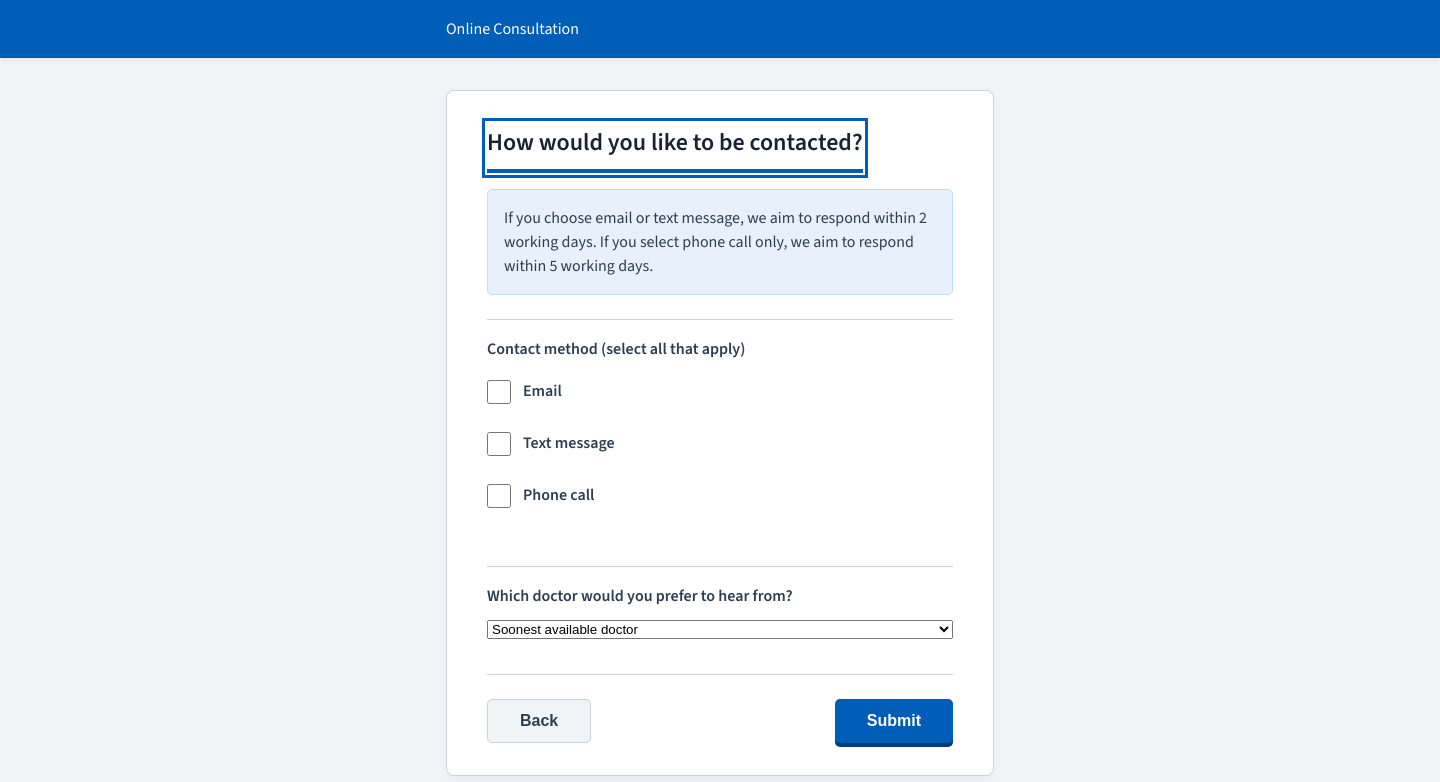
Test: ContactScreen › Submit button is disabled while submitting
The width and height of the screenshot is (1440, 782).
Click the checkbox labelled "Email" at (499,392), box [487, 380, 511, 404]
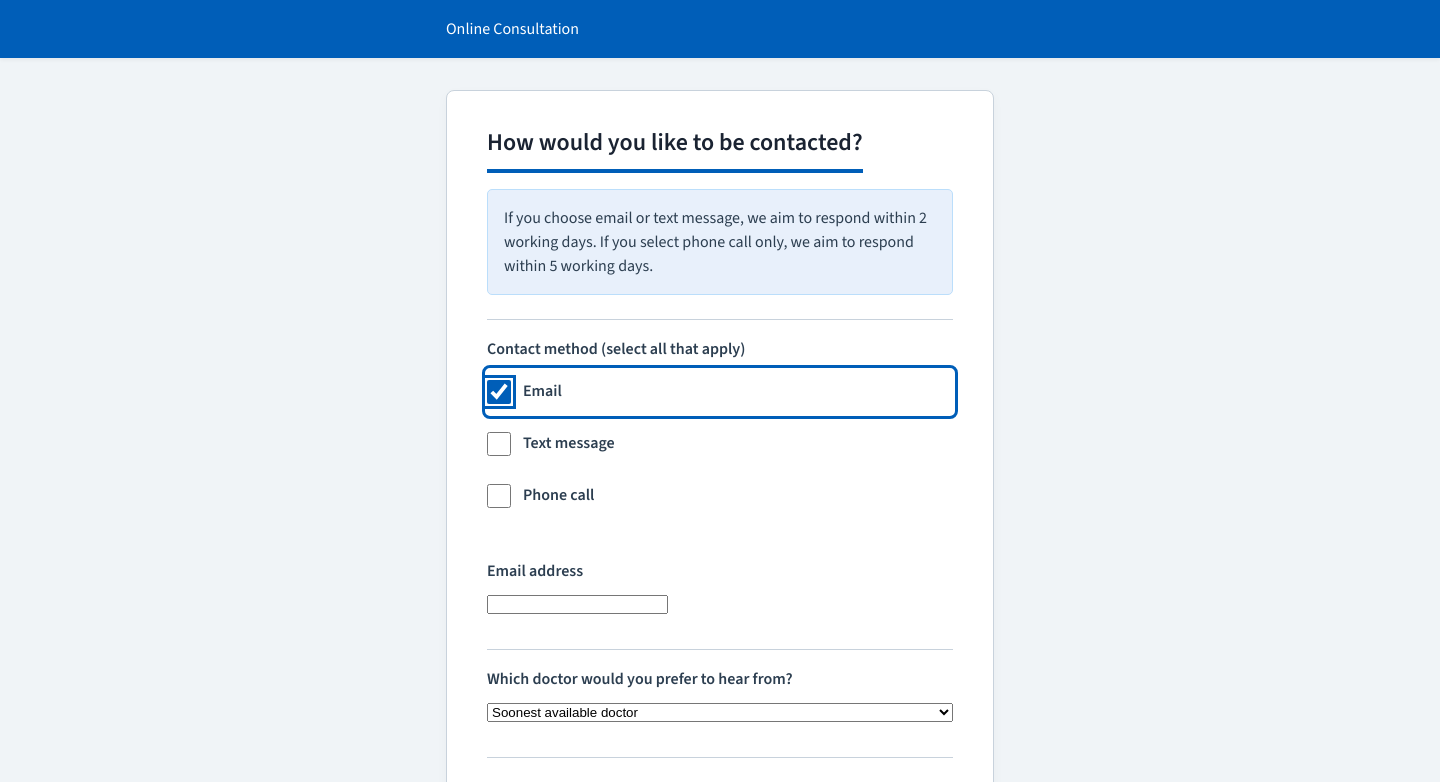
Type "test@example.com" into the field with id "contact-email" at (578,605), box [487, 595, 668, 614]
(page scrolled)
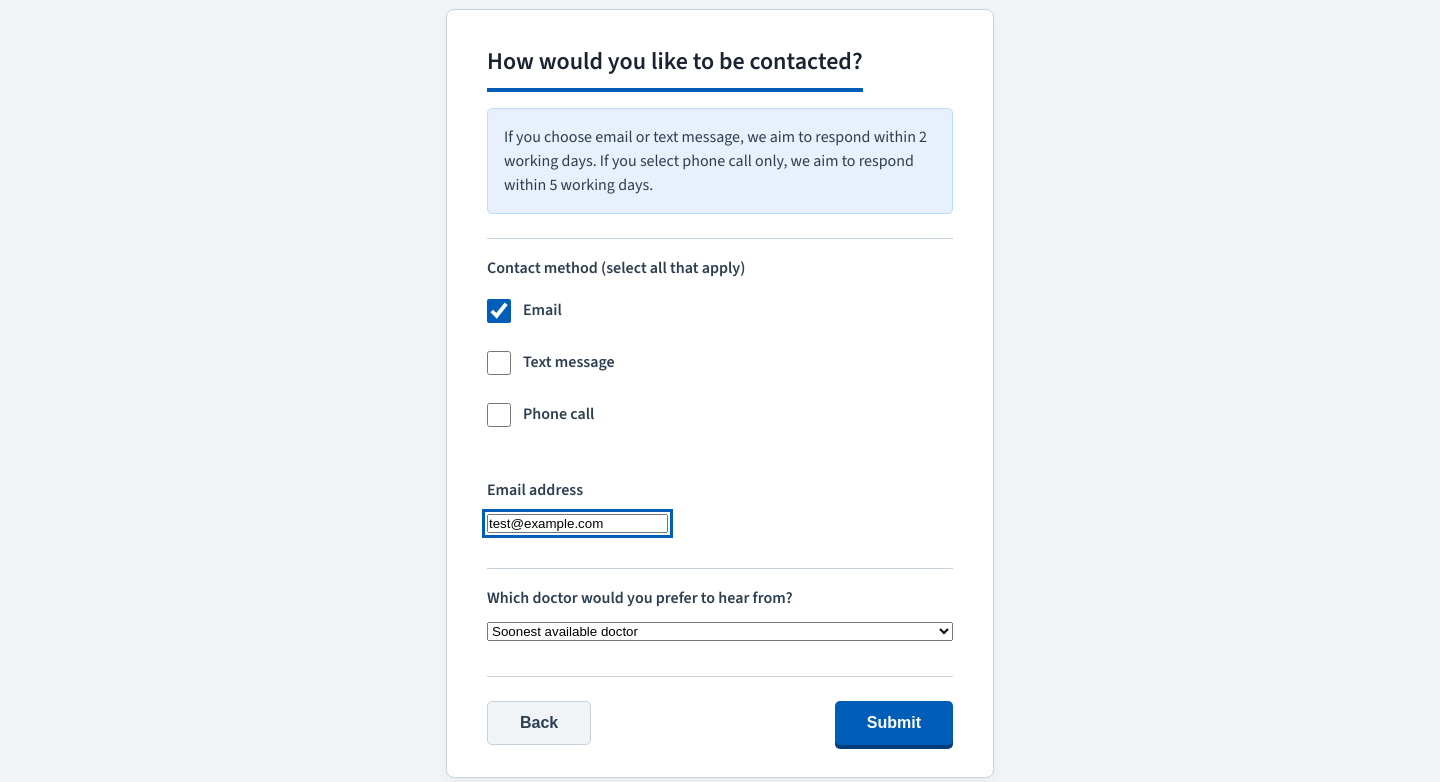
Click the button "Submit" at (894,723), box [835, 701, 953, 745]
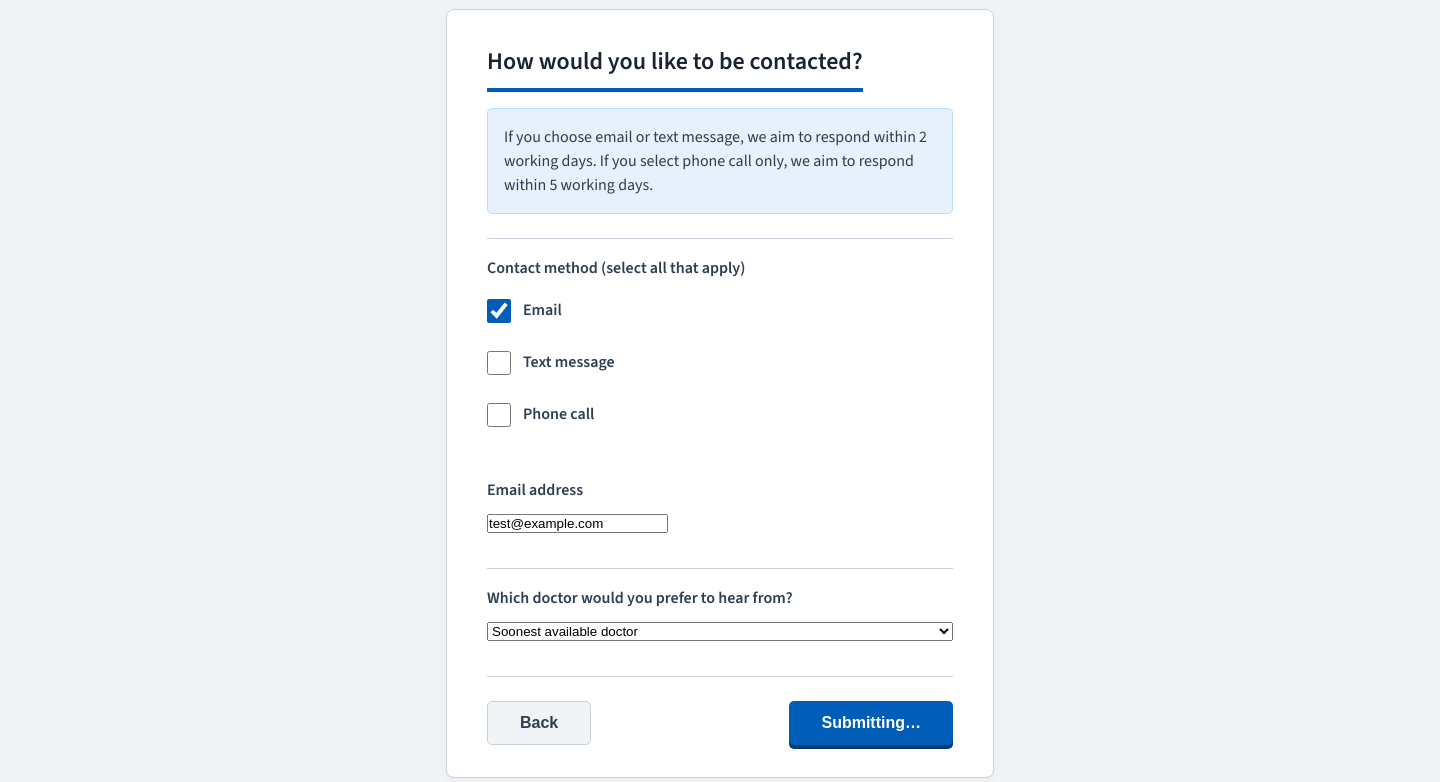
Check: the button "Submitting…" is disabled, box [790, 701, 953, 745]
